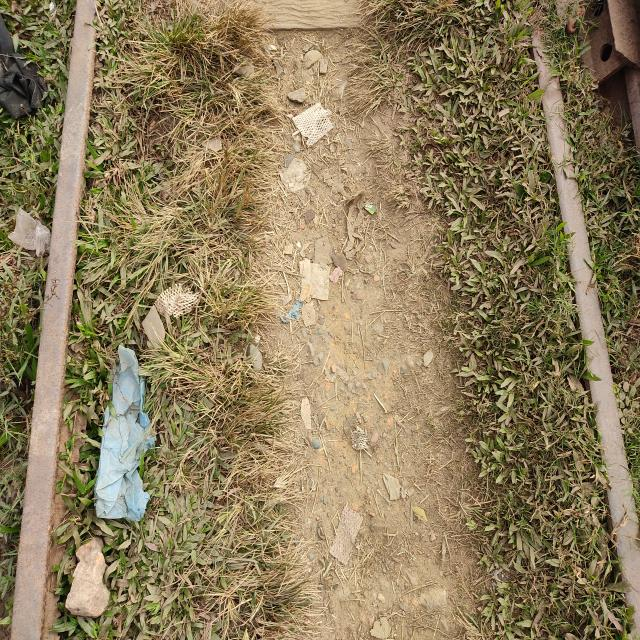non-defective: (35, 106, 132, 473)
